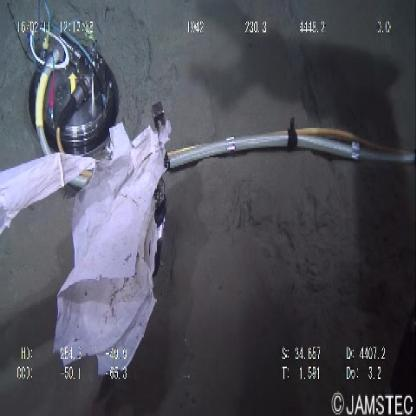Rác: (1, 121, 170, 380), (20, 11, 120, 149)
